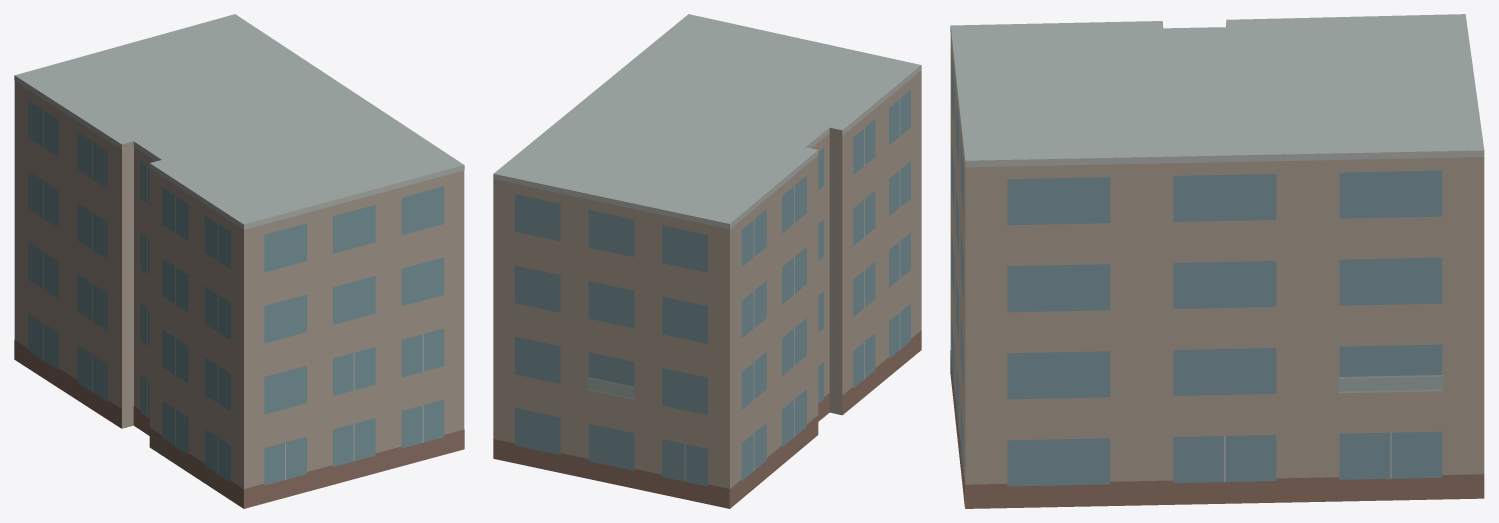
Rendered from survey-upis-32688213.glb.
3 renders of one model, left to right at view 1: azimuth 30°, elevation 25°; view 2: azimuth 150°, elevation 25°; view 3: azimuth 270°, elevation 25°, orthographic. The views are drawn at different scales.
Visible parts, largest first — view 1: survey-upis-32688213.tmp; view 2: survey-upis-32688213.tmp; view 3: survey-upis-32688213.tmp.
Boxes of the visible parts, left/top/right/bottom form: survey-upis-32688213.tmp: left=14, top=14, right=464, bottom=508; survey-upis-32688213.tmp: left=493, top=14, right=921, bottom=508; survey-upis-32688213.tmp: left=950, top=14, right=1484, bottom=508.
Size of the model in its own units: 11.67 by 12.9 by 17.94.
